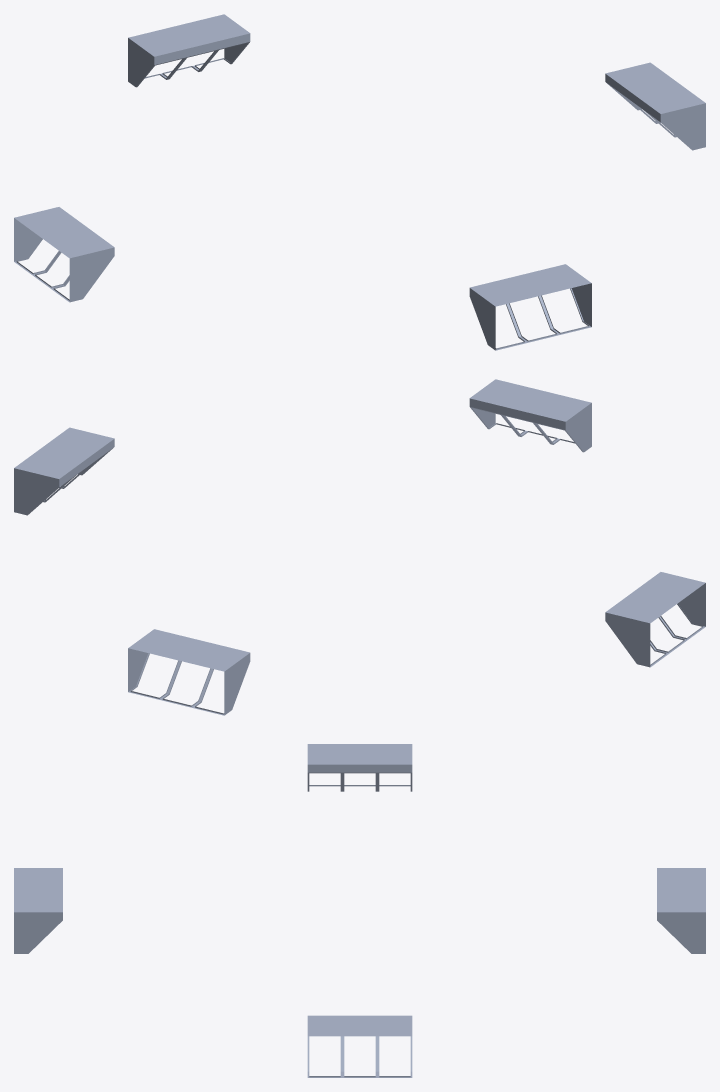
Rendered from Balconies.fbx.
3 renders of one model, top to bottom at view 1: azimuth 30°, elevation 25°; view 2: azimuth 150°, elevation 25°; view 3: azimuth 270°, elevation 25°, orthographic. The views are drawn at different scales.
Parts seen in each view (by area): view 1: obs_box01_2, obs_box01_1, obs_box01, obs_box01_3; view 2: obs_box01_2, obs_box01, obs_box01_1, obs_box01_3; view 3: obs_box01, obs_box01_1, obs_box01_2, obs_box01_3.
Part boxes in pixels (<box>): obs_box01_2: <box>14,207,114,302</box>; obs_box01_1: <box>128,14,250,87</box>; obs_box01: <box>469,264,591,350</box>; obs_box01_3: <box>605,62,705,150</box>; obs_box01_2: <box>605,572,705,667</box>; obs_box01: <box>469,379,591,452</box>; obs_box01_1: <box>128,629,250,715</box>; obs_box01_3: <box>14,427,114,515</box>; obs_box01: <box>14,868,62,953</box>; obs_box01_1: <box>657,868,705,953</box>; obs_box01_2: <box>307,744,412,791</box>; obs_box01_3: <box>307,1015,412,1077</box>.
Size of the model in its own units: 7936 by 525 by 7936.
